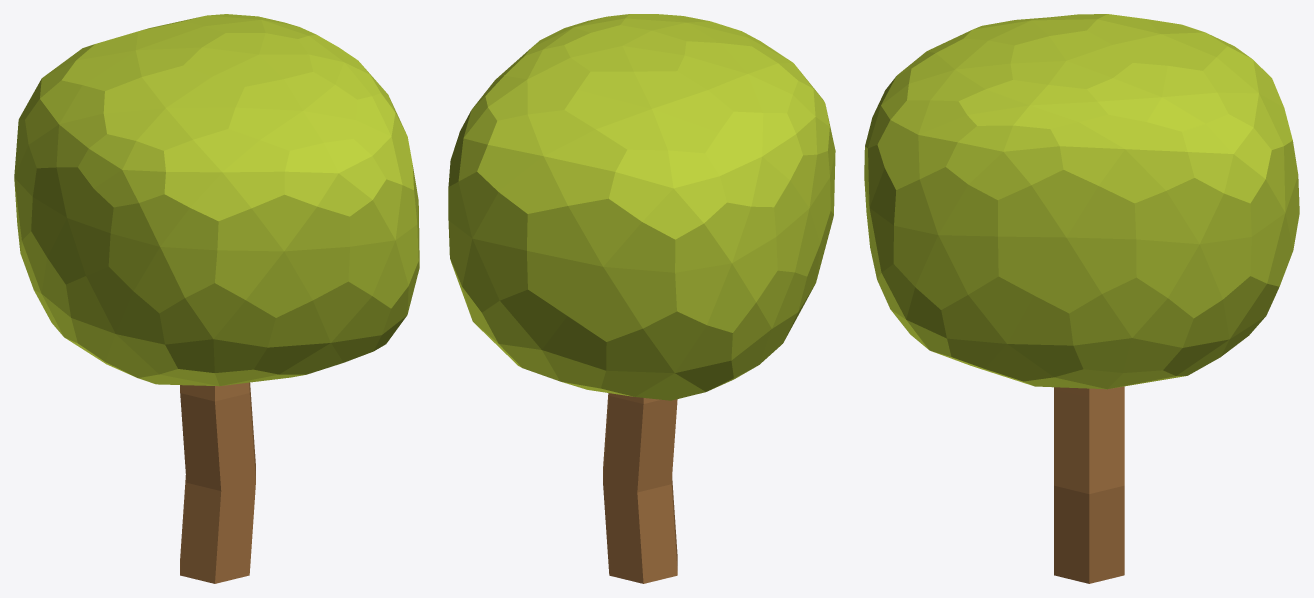
File: tree3.glb
3 renders of one model, left to right at view 1: azimuth 30°, elevation 25°; view 2: azimuth 150°, elevation 25°; view 3: azimuth 270°, elevation 25°, orthographic. The views are drawn at different scales.
Parts seen in each view (by area): view 1: Tree3; view 2: Tree3; view 3: Tree3.
Part boxes in pixels (x1=…): Tree3: x1=14, y1=14, x2=419, y2=583; Tree3: x1=448, y1=14, x2=835, y2=583; Tree3: x1=864, y1=14, x2=1299, y2=583.
Size of the model in its own units: 3.97 by 6.16 by 4.65.
